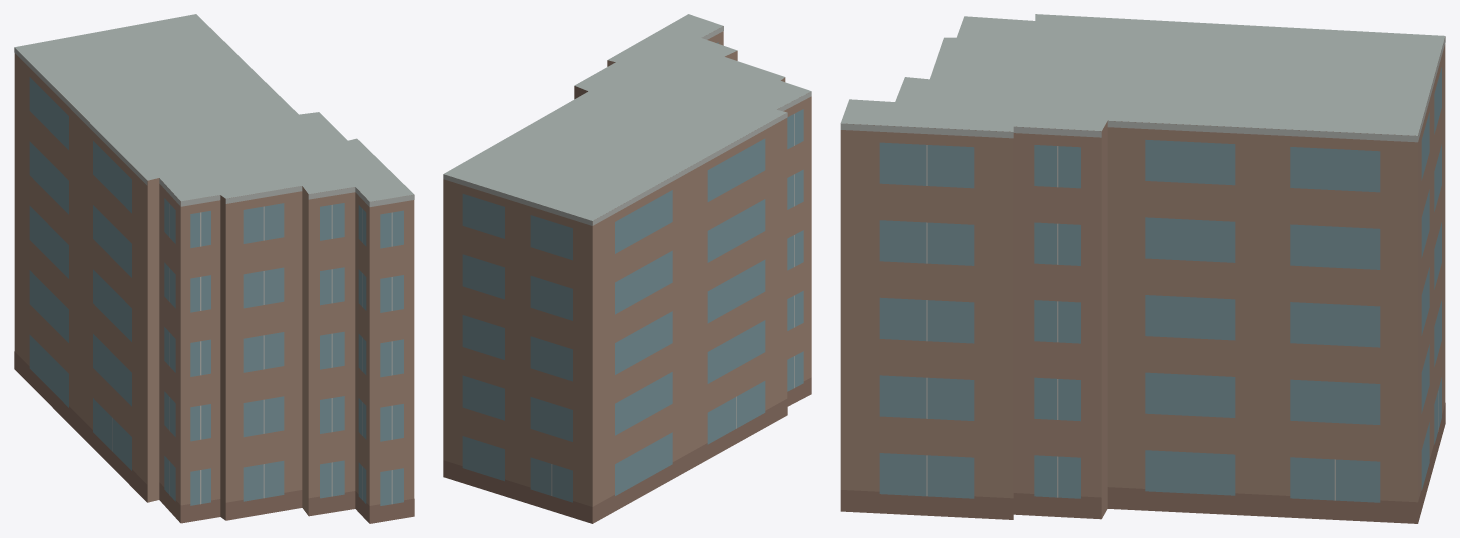
Rendered from survey-upis-32997328.glb.
The picture shows the model from 3 angles, left to right: view 1: azimuth 30°, elevation 25°; view 2: azimuth 150°, elevation 25°; view 3: azimuth 270°, elevation 25°; orthographic projection. The views are drawn at different scales.
Parts seen in each view (by area): view 1: survey-upis-32997328.tmp; view 2: survey-upis-32997328.tmp; view 3: survey-upis-32997328.tmp.
Part boxes in pixels (left/top/right/bottom): survey-upis-32997328.tmp: left=14, top=14, right=414, bottom=523; survey-upis-32997328.tmp: left=443, top=14, right=811, bottom=523; survey-upis-32997328.tmp: left=840, top=14, right=1445, bottom=523.
Bounding box in the file's own units: 9.91 × 14.7 × 20.78.
